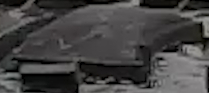bag: (6, 4, 203, 87)
